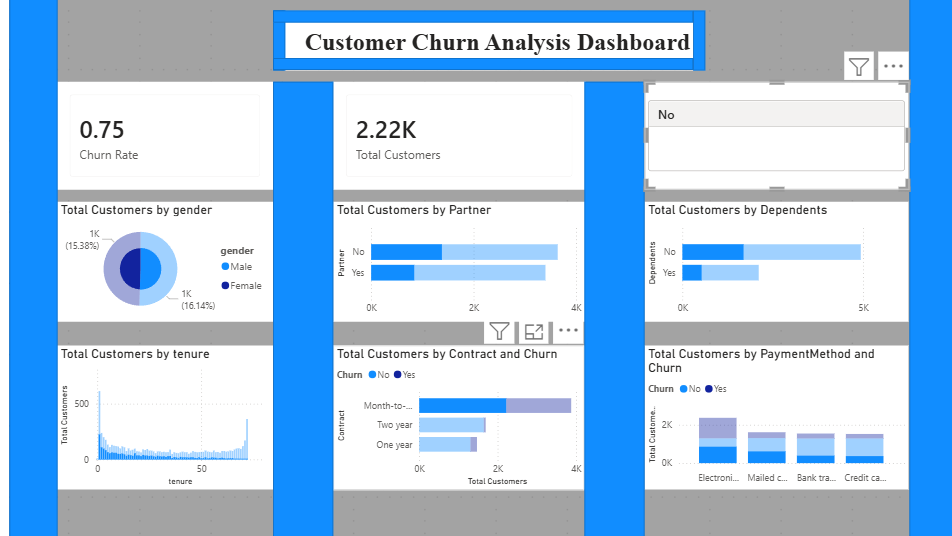

The page's visual inventory and layout, read from the dashboard file:
{"tool":"powerbi","page":{"name":"Page 1","canvas":[1280,720],"ordinal":0},"visuals":[{"type":"shape","box":[16,0,1264,720],"z":0},{"type":"cardVisual","fields":{"Data":["telco.Churn Rate"]},"box":[80,112,288,144],"z":1000},{"type":"cardVisual","fields":{"Data":["telco.Total Customers"]},"box":[448,112,336,144],"z":2000},{"type":"pieChart","fields":{"Category":["telco.gender"],"Y":["telco.Total Customers"]},"box":[80,272,288,160],"z":3000},{"type":"barChart","fields":{"Category":["telco.Partner"],"Y":["telco.Total Customers"]},"box":[448,272,336,160],"z":4000},{"type":"clusteredBarChart","fields":{"Category":["telco.Dependents"],"Y":["telco.Total Customers"]},"box":[864,272,352,160],"z":5000},{"type":"columnChart","fields":{"Category":["telco.tenure"],"Y":["telco.Total Customers"]},"box":[80,464,288,192],"z":6000},{"type":"barChart","fields":{"Category":["telco.Contract"],"Y":["telco.Total Customers"],"Series":["telco.Churn"]},"box":[448,464,336,192],"z":7000},{"type":"columnChart","fields":{"Category":["telco.PaymentMethod"],"Y":["telco.Total Customers"],"Series":["telco.Churn"]},"box":[864,464,352,192],"z":8000},{"type":"textbox","box":[384,16,560,80],"z":9000},{"type":"shape","box":[368,16,16,80],"z":10000},{"type":"shape","box":[368,16,560,16],"z":11000},{"type":"shape","box":[368,80,560,16],"z":12000},{"type":"shape","box":[928,16,16,80],"z":13000},{"type":"cardVisual","fields":{"Rows":["telco.Churn"]},"box":[864,112,352,144],"z":14000},{"type":"shape","box":[368,112,80,608],"z":15000},{"type":"shape","box":[784,112,80,608],"z":16000},{"type":"shape","box":[1216,0,64,720],"z":17000},{"type":"shape","box":[16,0,64,720],"z":18000}]}

Visuals, with their boxes in screenshot pixels (x1, y1, x2, y2), scaled from the page's 1280x720 canvas onto the 952x536 screenshot:
shape: [x1=12, y1=0, x2=951, y2=535]
cardVisual - telco.Churn Rate: [x1=60, y1=83, x2=274, y2=191]
cardVisual - telco.Total Customers: [x1=333, y1=83, x2=583, y2=191]
pieChart - telco.gender x telco.Total Customers: [x1=60, y1=202, x2=274, y2=322]
barChart - telco.Partner x telco.Total Customers: [x1=333, y1=202, x2=583, y2=322]
clusteredBarChart - telco.Dependents x telco.Total Customers: [x1=643, y1=202, x2=904, y2=322]
columnChart - telco.tenure x telco.Total Customers: [x1=60, y1=345, x2=274, y2=488]
barChart - telco.Contract x telco.Total Customers: [x1=333, y1=345, x2=583, y2=488]
columnChart - telco.PaymentMethod x telco.Total Customers: [x1=643, y1=345, x2=904, y2=488]
textbox: [x1=286, y1=12, x2=702, y2=71]
shape: [x1=274, y1=12, x2=286, y2=71]
shape: [x1=274, y1=12, x2=690, y2=24]
shape: [x1=274, y1=60, x2=690, y2=71]
shape: [x1=690, y1=12, x2=702, y2=71]
cardVisual - telco.Churn: [x1=643, y1=83, x2=904, y2=191]
shape: [x1=274, y1=83, x2=333, y2=535]
shape: [x1=583, y1=83, x2=643, y2=535]
shape: [x1=904, y1=0, x2=951, y2=535]
shape: [x1=12, y1=0, x2=60, y2=535]
